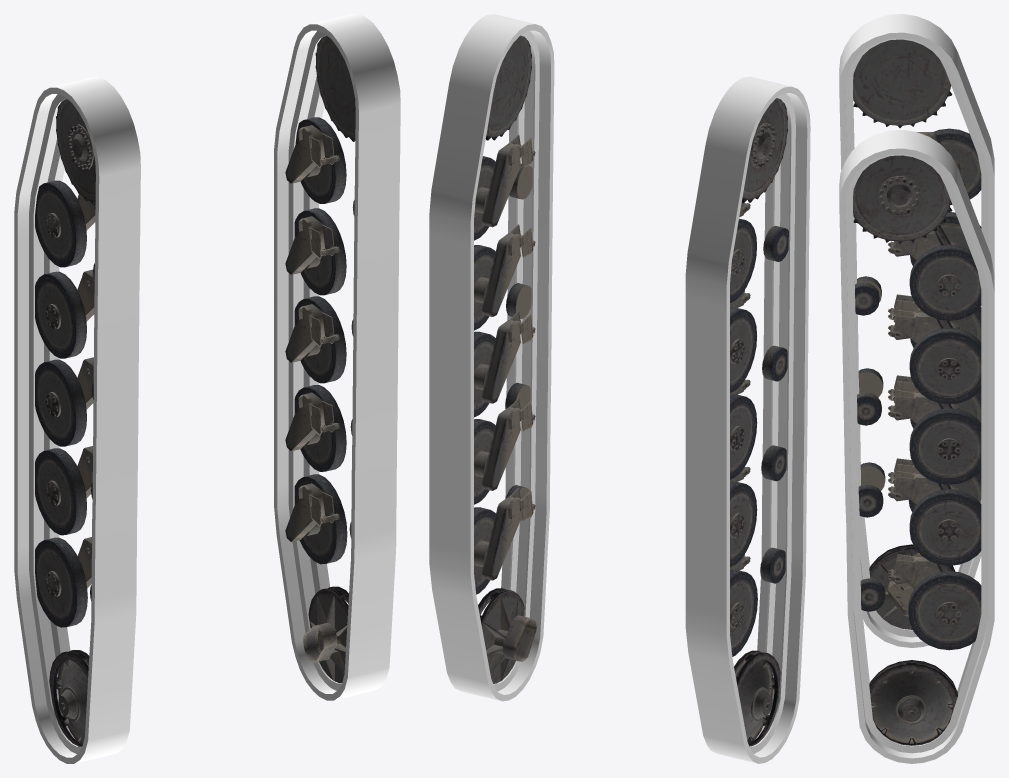
File: Chassis.glb
The picture shows the model from 3 angles, left to right: view 1: azimuth 30°, elevation 25°; view 2: azimuth 150°, elevation 25°; view 3: azimuth 270°, elevation 25°; orthographic projection. The views are drawn at different scales.
Parts seen in each view (by area): view 1: set_3_group_0, set_2_group_0, set_1_group_0, set_0_group_0; view 2: set_3_group_0, set_2_group_0, set_0_group_0, set_1_group_0; view 3: set_0_group_0, set_2_group_0, set_1_group_0, set_3_group_0.
Part boxes in pixels (bbox=[...]): set_3_group_0: bbox=[14, 77, 140, 763]; set_2_group_0: bbox=[274, 14, 400, 700]; set_1_group_0: bbox=[35, 99, 95, 746]; set_0_group_0: bbox=[285, 35, 355, 682]; set_3_group_0: bbox=[685, 76, 810, 763]; set_2_group_0: bbox=[429, 14, 554, 701]; set_0_group_0: bbox=[474, 35, 536, 683]; set_1_group_0: bbox=[730, 98, 788, 746]; set_0_group_0: bbox=[853, 155, 981, 745]; set_2_group_0: bbox=[839, 130, 994, 763]; set_1_group_0: bbox=[853, 39, 981, 629]; set_3_group_0: bbox=[839, 14, 994, 647].
Size of the model in its own units: 2.17 by 4.62 by 1.06.
4 materials, 2 textured.
